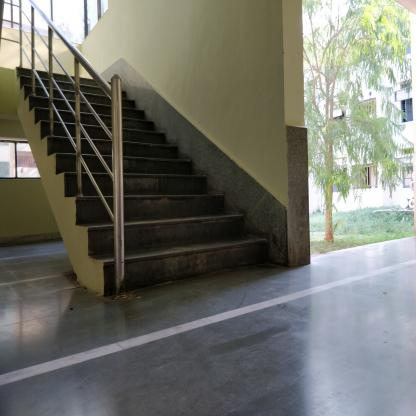stairs: (128, 147, 180, 293)
